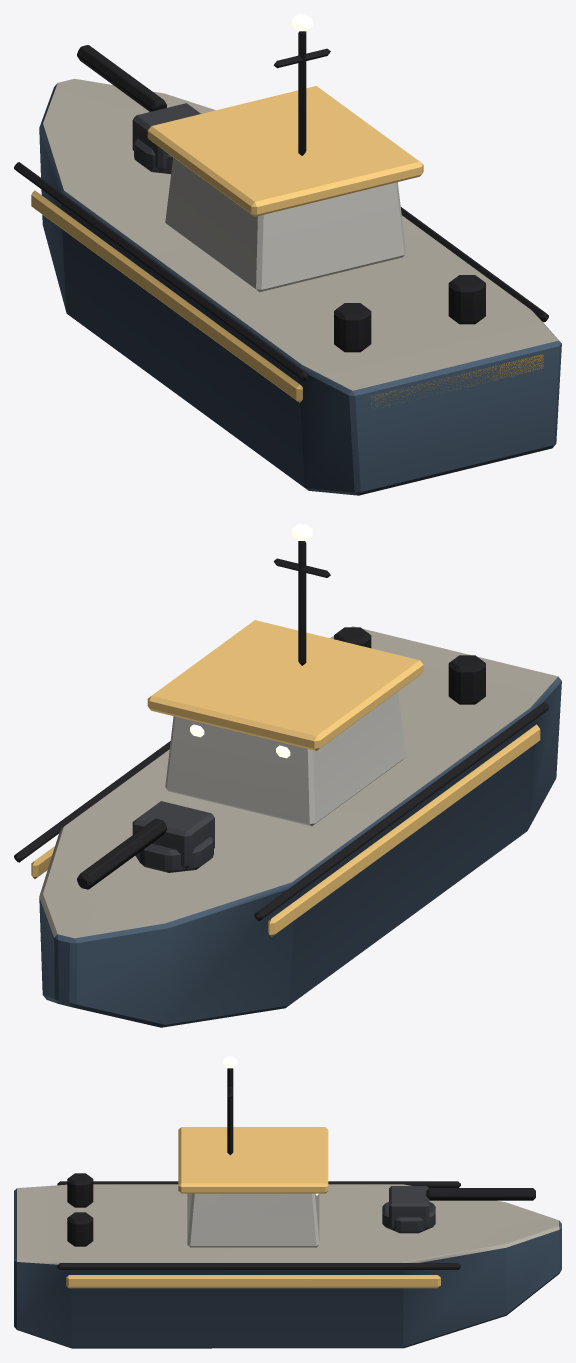
File: patrol_boat.glb
3 views of the same model, one above another, from view 1: azimuth 30°, elevation 25°; view 2: azimuth 150°, elevation 25°; view 3: azimuth 270°, elevation 25° (orthographic). The views are drawn at different scales.
Parts seen in each view (by area): view 1: patrol_boat; view 2: patrol_boat; view 3: patrol_boat.
Part boxes in pixels (left/top/right/bottom): patrol_boat: left=14, top=14, right=561, bottom=495; patrol_boat: left=14, top=524, right=561, bottom=1027; patrol_boat: left=14, top=1056, right=561, bottom=1348.
Bounding box in the file's own units: 0.695 × 0.97 × 1.9.
